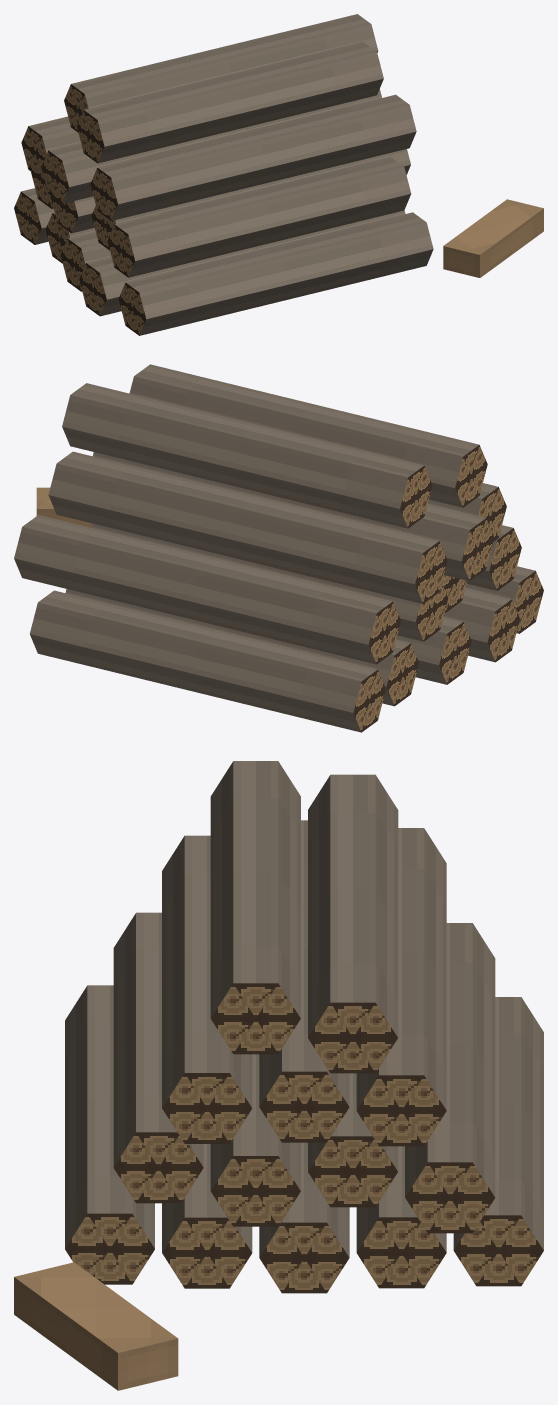
Rendered from firewood-stack.glb.
3 renders of one model, top to bottom at view 1: azimuth 30°, elevation 25°; view 2: azimuth 150°, elevation 25°; view 3: azimuth 270°, elevation 25°, orthographic. The views are drawn at different scales.
Visible parts, largest first — view 1: firewood-stack.001; view 2: firewood-stack.001; view 3: firewood-stack.001.
Boxes of the visible parts, x1,y1,x2,y2 form: firewood-stack.001: (14,14,543,335); firewood-stack.001: (14,364,543,732); firewood-stack.001: (14,761,543,1390).
Bounding box in the file's own units: 1.17 × 0.4813 × 0.7633.
Materials: 1 (1 with a texture image).
